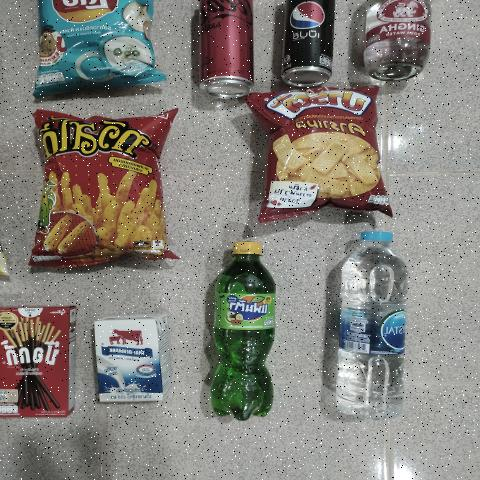coke_red: (195, 0, 253, 90)
crystal: (319, 225, 408, 425)
fanta_green: (207, 236, 277, 425)
lay_blue: (40, 0, 159, 82)
party_red: (266, 90, 378, 214)
pepsi_black: (285, 0, 337, 78)
pokki: (0, 304, 81, 424)
thai_denmark: (92, 319, 167, 402)
twisco: (32, 118, 163, 260)
